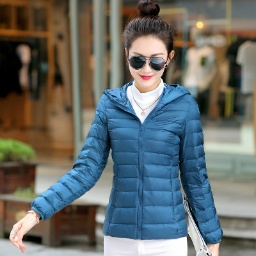face: (119, 3, 178, 93)
